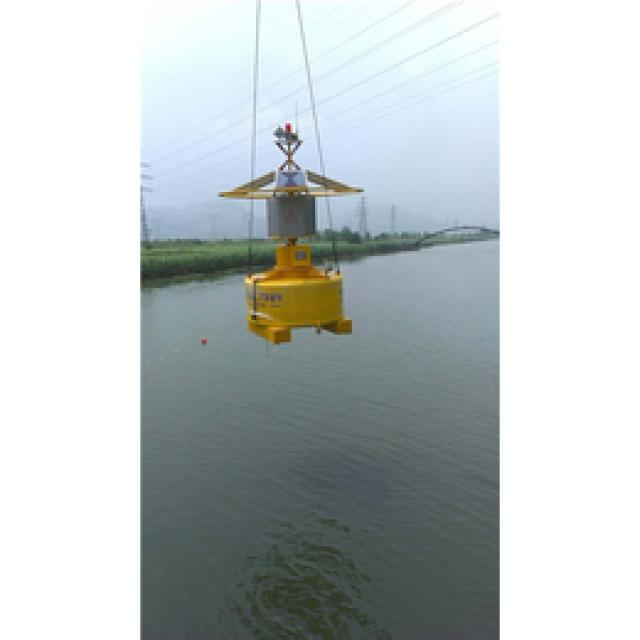buoy: (210, 118, 372, 344)
